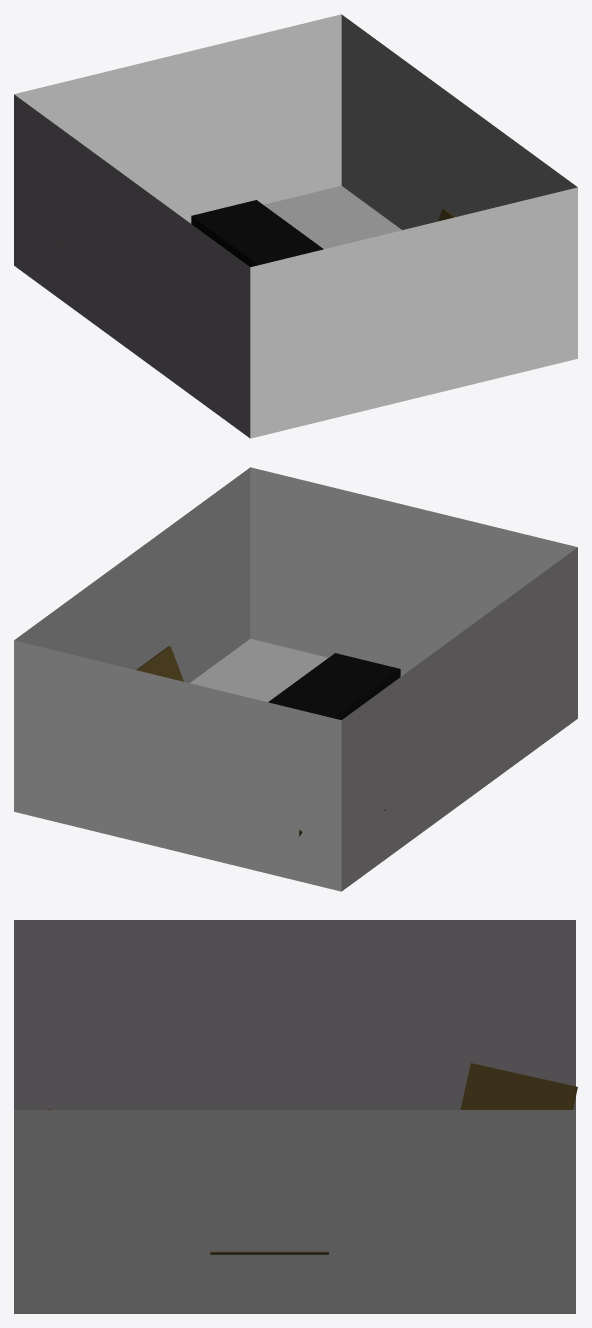
The model's file is map.fbx.
3 views of the same model, one above another, from view 1: azimuth 30°, elevation 25°; view 2: azimuth 150°, elevation 25°; view 3: azimuth 270°, elevation 25° (orthographic). The views are drawn at different scales.
Visible parts, largest first — view 1: Plane.004, Plane.002, Plane.001, Plane.003, desk, Plane; view 2: Plane.002, Plane.004, Plane.001, Plane.003, desk, Plane, Cube.003; view 3: Plane.003, Plane.001, Cube.004.
Part boxes in pixels (box(x1,y1,x2,y2)): Plane.004: box(250, 187, 577, 438); Plane.002: box(14, 14, 341, 222); Plane.001: box(14, 94, 250, 438); Plane.003: box(341, 14, 577, 229); desk: box(191, 200, 323, 267); Plane: box(190, 185, 401, 249); Plane.002: box(14, 640, 341, 891); Plane.004: box(250, 467, 577, 675); Plane.001: box(341, 547, 577, 891); Plane.003: box(14, 467, 250, 682); desk: box(268, 653, 400, 720); Plane: box(190, 638, 401, 702); Cube.003: box(136, 646, 183, 681); Plane.003: box(14, 1110, 575, 1313); Plane.001: box(14, 920, 575, 1109); Cube.004: box(460, 1063, 577, 1109).
Bounding box in the file's own units: 804 × 402 × 1004.
